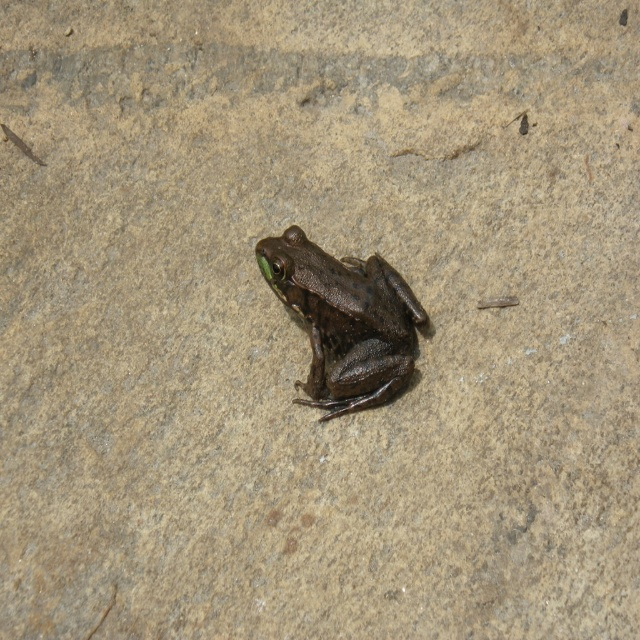Frog: (253, 223, 431, 425)
